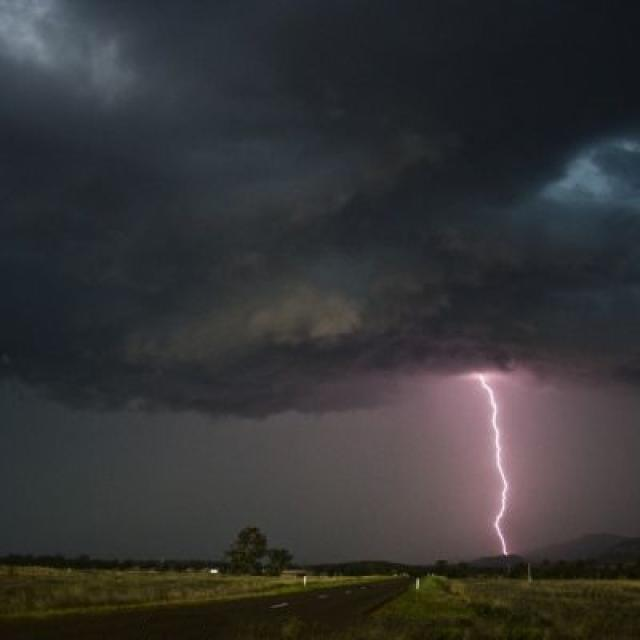Cb: (7, 1, 640, 459)
